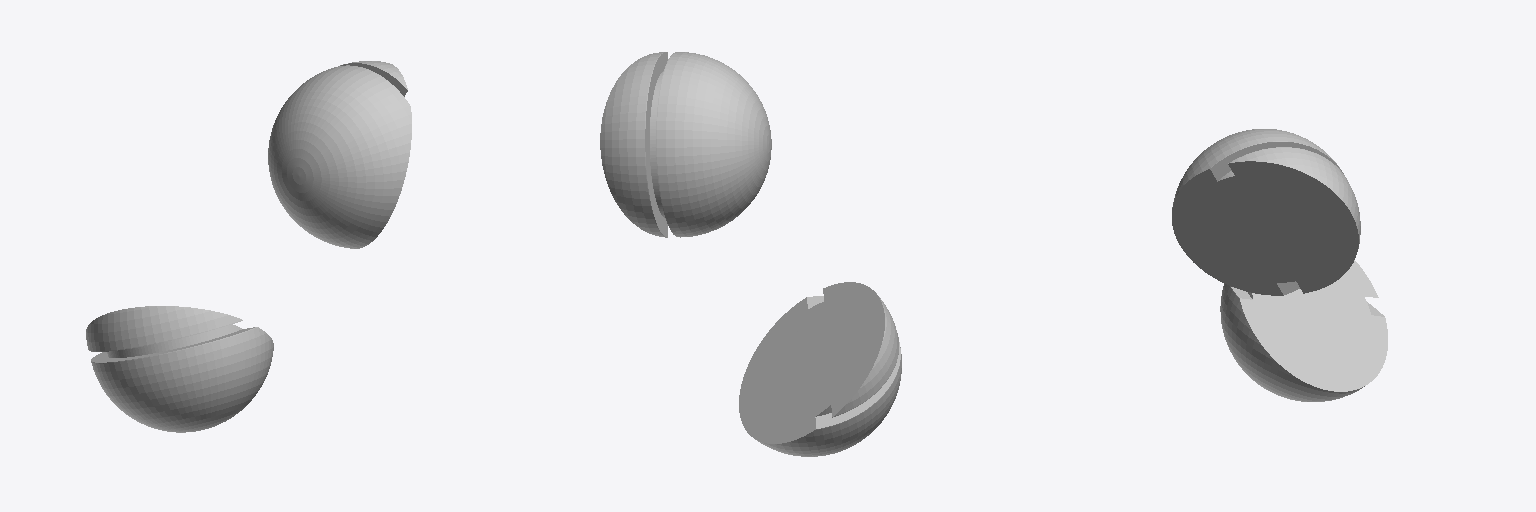
File: Drone166_000012.obj
The picture shows the model from 3 angles: view 1: azimuth 30°, elevation 25°; view 2: azimuth 150°, elevation 25°; view 3: azimuth 270°, elevation 25°; orthographic projection.
Parts seen in each view (by area): view 1: Sphere.001, Sphere.000_Sphere.002; view 2: Sphere.001, Sphere.000_Sphere.002; view 3: Sphere.001, Sphere.000_Sphere.002.
Boxes of the visible parts, <box> form: Sphere.001: <box>268,61,411,248</box>; Sphere.000_Sphere.002: <box>86,306,273,432</box>; Sphere.001: <box>600,52,771,237</box>; Sphere.000_Sphere.002: <box>739,282,901,456</box>; Sphere.001: <box>1172,129,1360,295</box>; Sphere.000_Sphere.002: <box>1220,260,1387,401</box>.
Bounding box in the file's own units: 3.45 × 3.94 × 2.33.